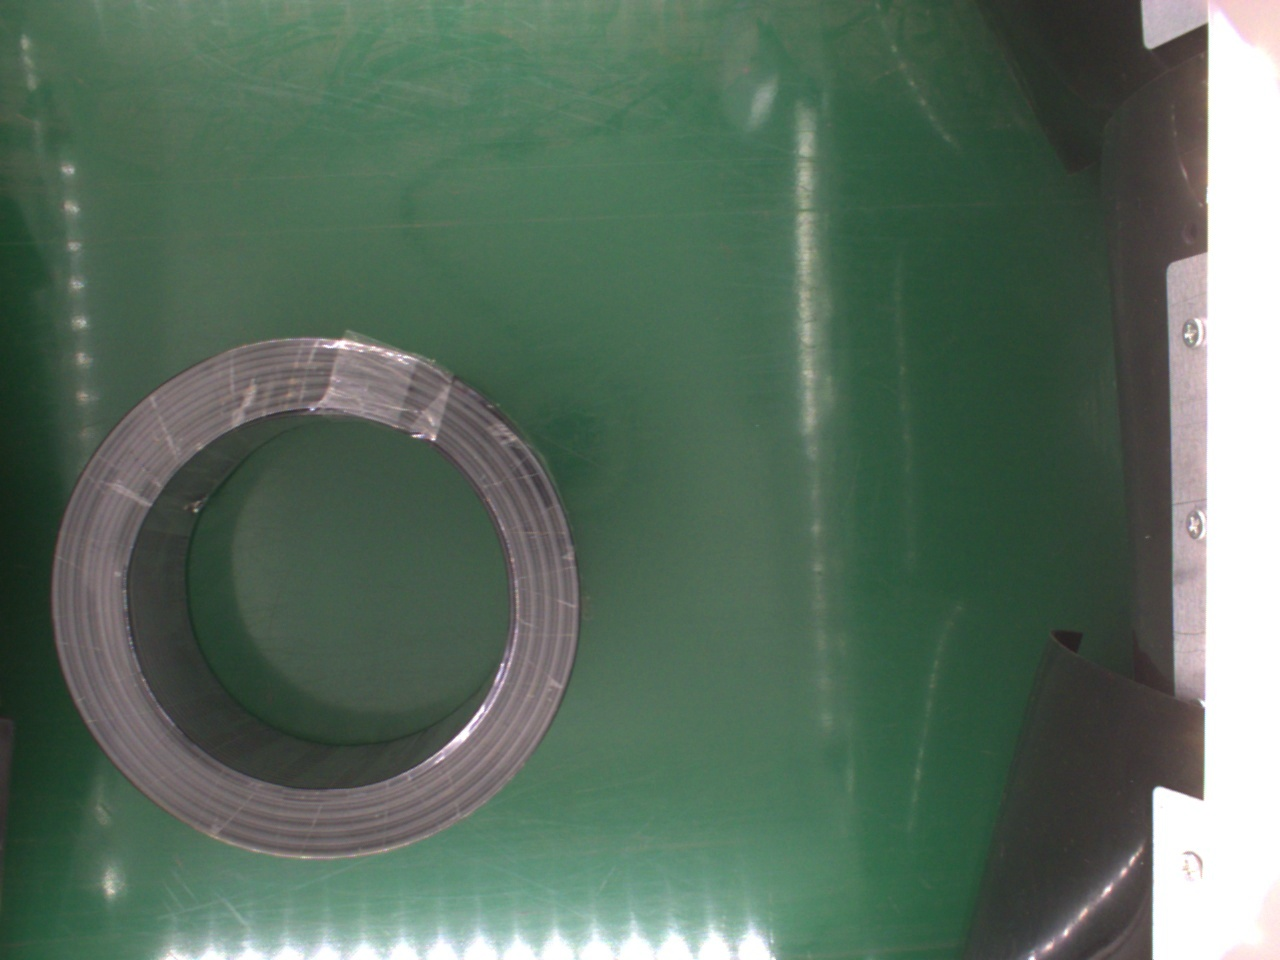black: (47, 340, 579, 862)
